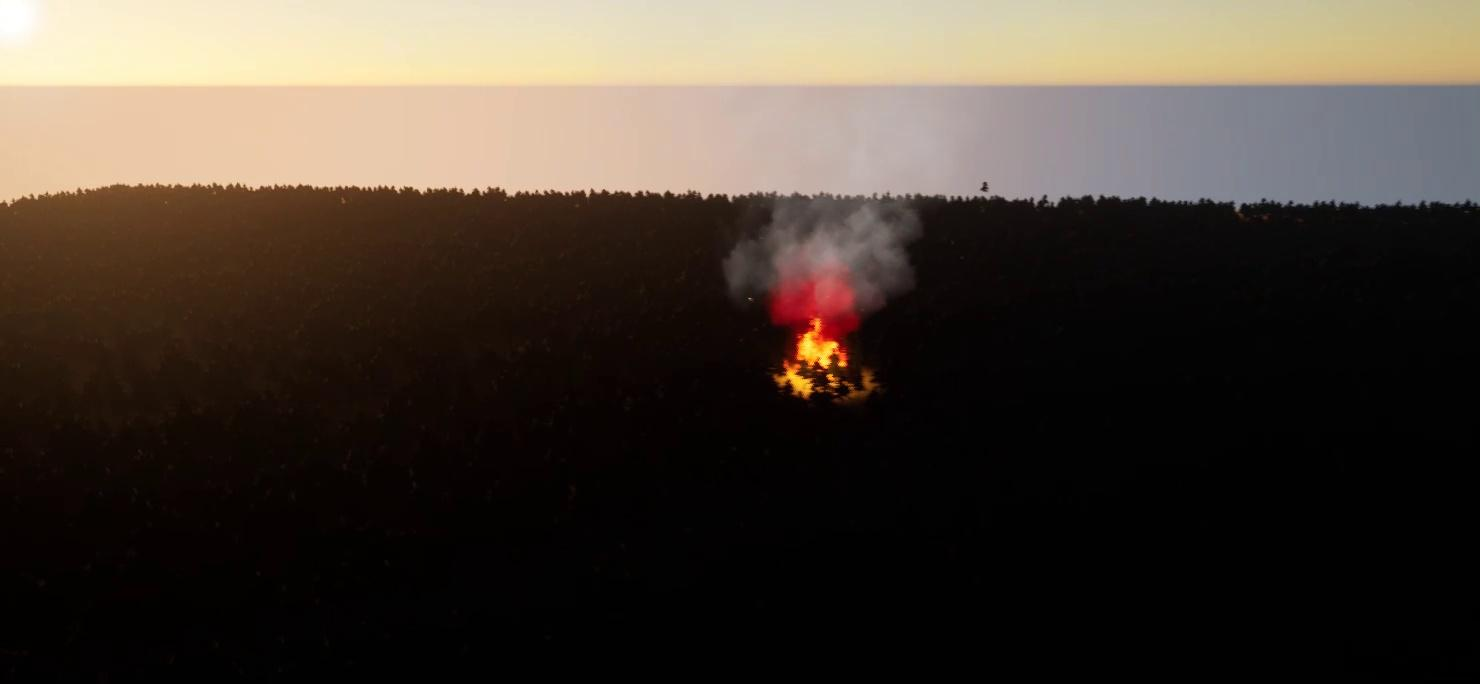fire: (767, 320, 859, 388)
smoke: (718, 192, 918, 321)
